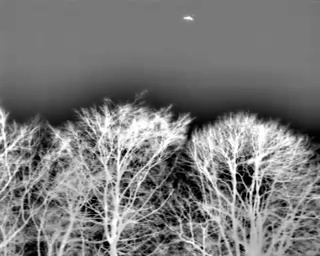BIRD: (181, 13, 196, 25)
